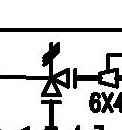psv: (40, 41, 70, 102)
